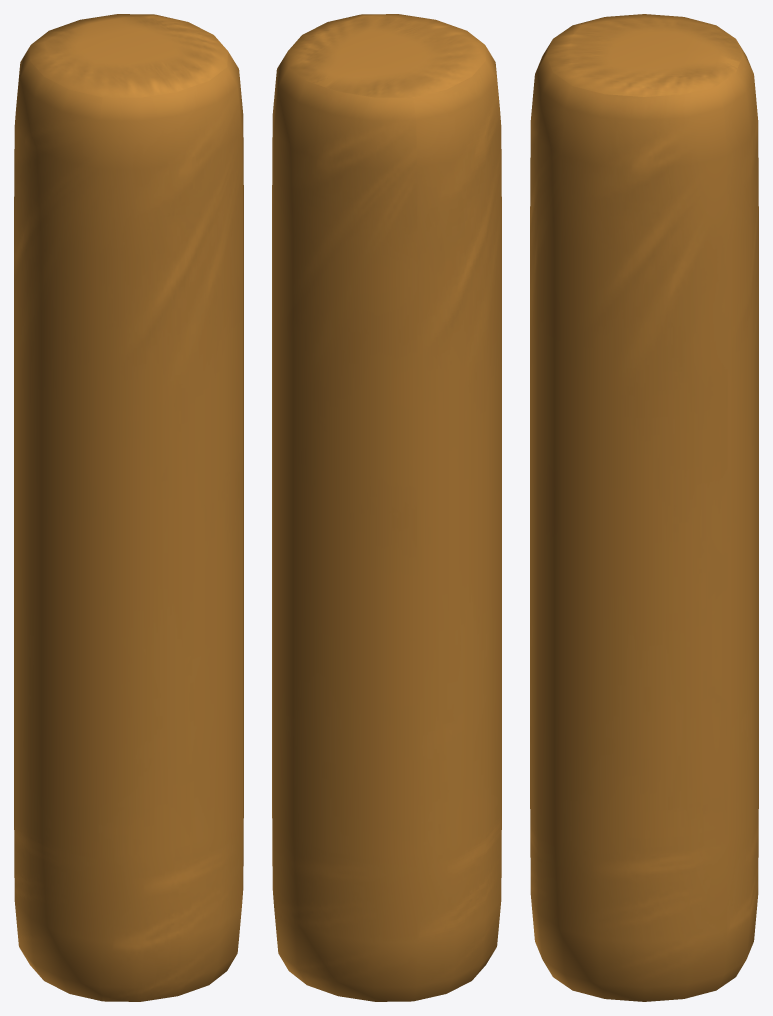
The model's file is Column.obj.
3 renders of one model, left to right at view 1: azimuth 30°, elevation 25°; view 2: azimuth 150°, elevation 25°; view 3: azimuth 270°, elevation 25°, orthographic.
Visible parts, largest first — view 1: Cube; view 2: Cube; view 3: Cube.
Boxes of the visible parts, x1,y1,x2,y2 form: Cube: [14, 14, 243, 1001]; Cube: [272, 14, 501, 1001]; Cube: [530, 14, 758, 1001].
Size of the model in its own units: 1.83 by 8.06 by 1.83.
1 material, 1 textured.
